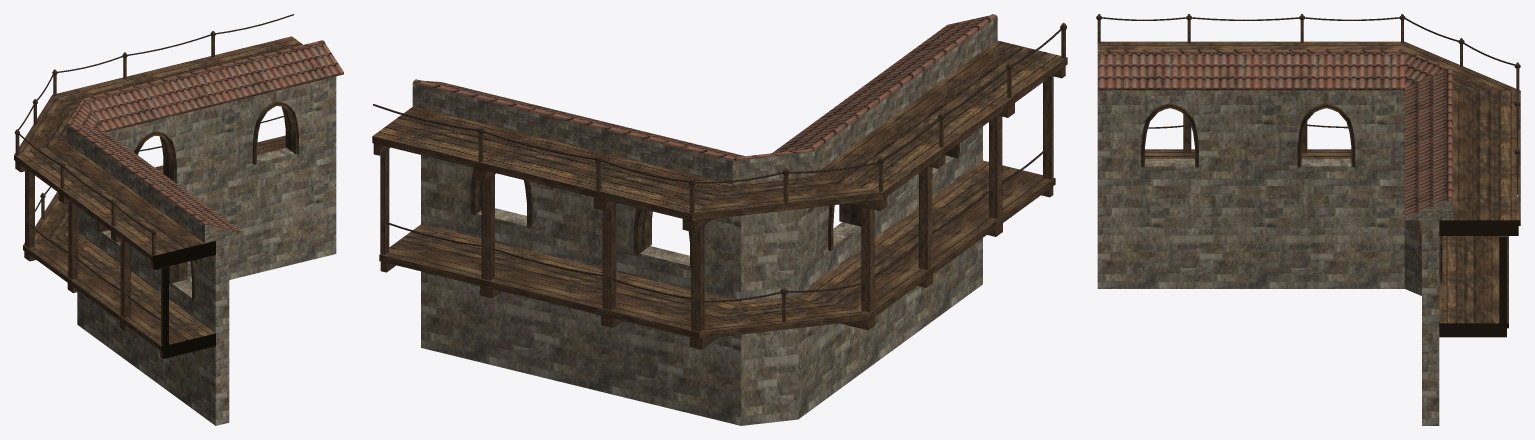
File: FortWallRCornerL1.dae
3 renders of one model, left to right at view 1: azimuth 30°, elevation 25°; view 2: azimuth 150°, elevation 25°; view 3: azimuth 270°, elevation 25°, orthographic. The views are drawn at different scales.
Parts seen in each view (by area): view 1: forts_stone_copy185-0; view 2: forts_stone_copy185-0; view 3: forts_stone_copy185-0.
Part boxes in pixels (box(x1,y1,x2,y2)): forts_stone_copy185-0: box(14, 14, 343, 425); forts_stone_copy185-0: box(372, 14, 1067, 425); forts_stone_copy185-0: box(1096, 14, 1520, 425).
Size of the model in its own units: 14.63 by 8.92 by 14.65.
